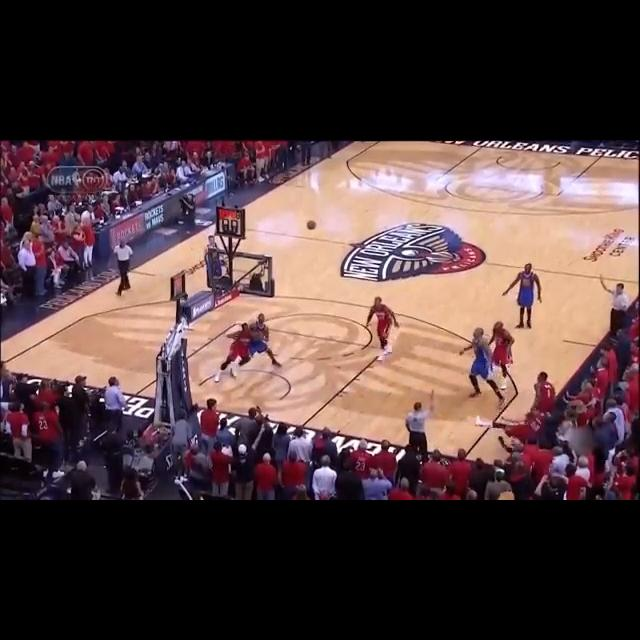basketball: (306, 220, 317, 230)
